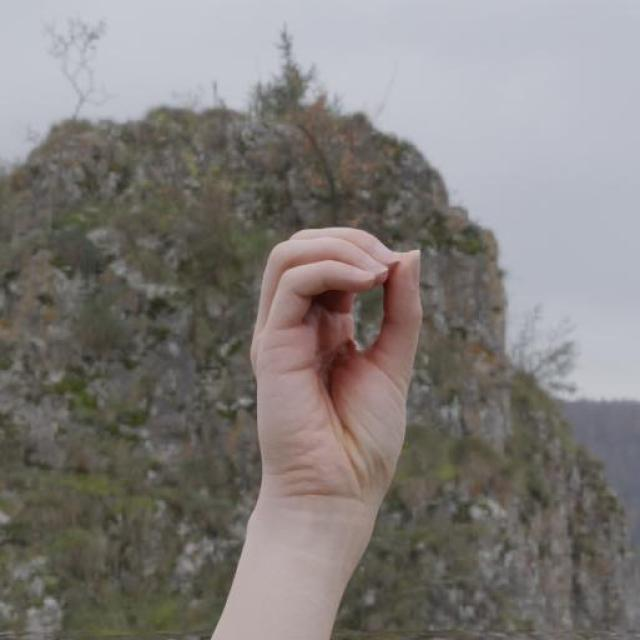O: (214, 178, 443, 547)
